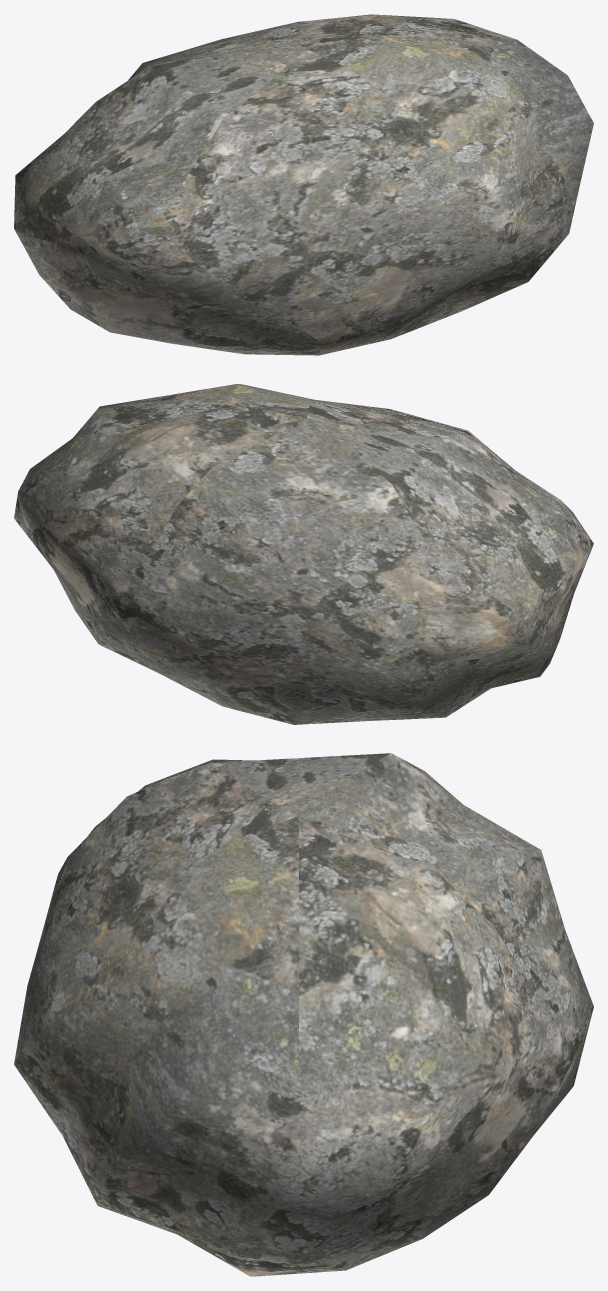
The model's file is rock-forest.glb.
3 renders of one model, top to bottom at view 1: azimuth 30°, elevation 25°; view 2: azimuth 150°, elevation 25°; view 3: azimuth 270°, elevation 25°, orthographic. The views are drawn at different scales.
Parts seen in each view (by area): view 1: ForestRock; view 2: ForestRock; view 3: ForestRock.
Boxes of the visible parts, x1,y1,x2,y2 form: ForestRock: (14, 14, 593, 355); ForestRock: (14, 384, 593, 724); ForestRock: (14, 753, 593, 1276).
Bounding box in the file's own units: 1.44 × 0.65 × 0.9962.
1 material, 1 textured.
